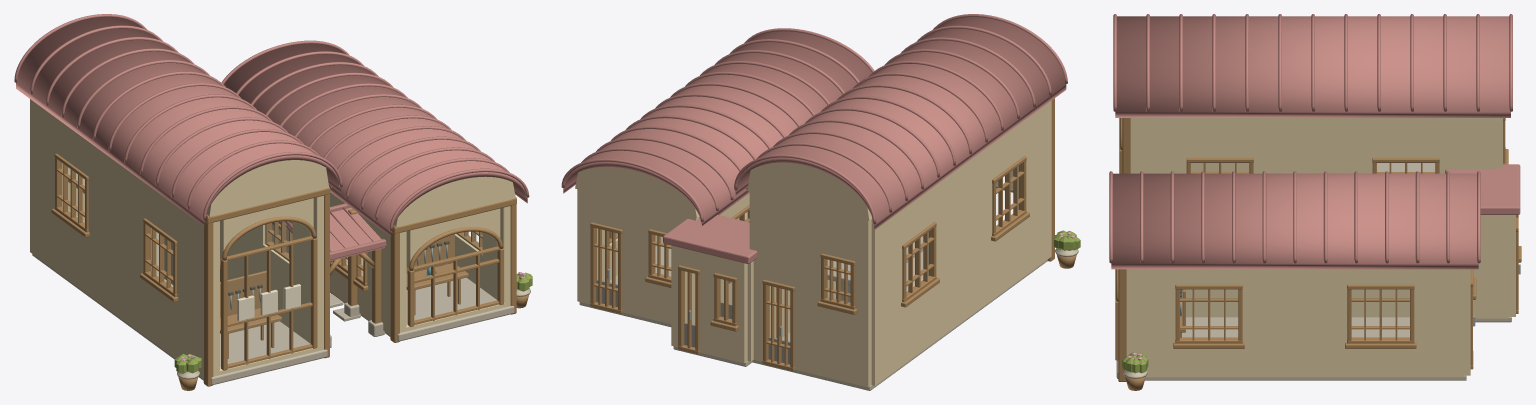
3 renders of one model, left to right at view 1: azimuth 30°, elevation 25°; view 2: azimuth 150°, elevation 25°; view 3: azimuth 270°, elevation 25°, orthographic. The views are drawn at different scales.
Parts seen in each view (by area): view 1: SM_21_02_曲面屋顶, SM_21_01_建筑墙体, SM_21_04_门窗楼梯, SM_21_03_木构回廊, SM_21_06_景观设施, SM_21_05_景观植物; view 2: SM_21_01_建筑墙体, SM_21_02_曲面屋顶, SM_21_04_门窗楼梯, SM_21_05_景观植物, SM_21_03_木构回廊; view 3: SM_21_02_曲面屋顶, SM_21_01_建筑墙体, SM_21_04_门窗楼梯, SM_21_03_木构回廊, SM_21_05_景观植物.
Boxes of the visible parts, left/top/right/bottom form: SM_21_02_曲面屋顶: left=14, top=14, right=529, bottom=261; SM_21_01_建筑墙体: left=30, top=99, right=515, bottom=384; SM_21_04_门窗楼梯: left=51, top=153, right=503, bottom=370; SM_21_03_木构回廊: left=203, top=186, right=516, bottom=386; SM_21_06_景观设施: left=220, top=234, right=468, bottom=358; SM_21_05_景观植物: left=174, top=272, right=532, bottom=390; SM_21_01_建筑墙体: left=575, top=101, right=1051, bottom=390; SM_21_02_曲面屋顶: left=561, top=14, right=1067, bottom=263; SM_21_04_门窗楼梯: left=590, top=156, right=1029, bottom=371; SM_21_05_景观植物: left=1054, top=230, right=1080, bottom=268; SM_21_03_木构回廊: left=776, top=98, right=1054, bottom=337; SM_21_02_曲面屋顶: left=1109, top=14, right=1520, bottom=269; SM_21_01_建筑墙体: left=1116, top=118, right=1515, bottom=380; SM_21_04_门窗楼梯: left=1115, top=118, right=1521, bottom=369; SM_21_03_木构回廊: left=1118, top=118, right=1130, bottom=381; SM_21_05_景观植物: left=1122, top=352, right=1148, bottom=390.
Bounding box in the file's own units: 10.72 × 6.31 × 10.2.
